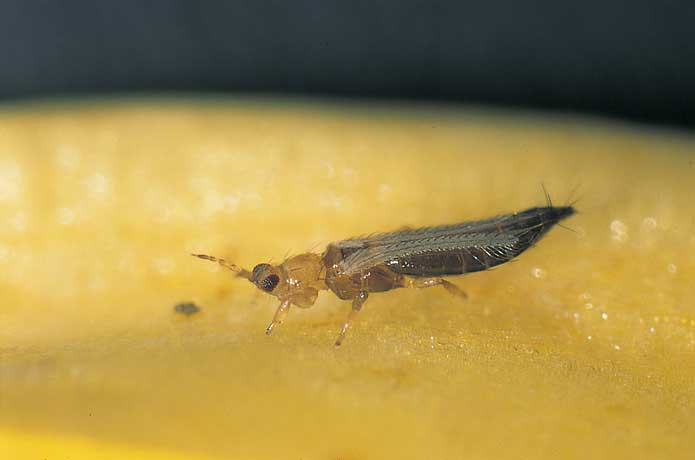Thrips: (201, 159, 586, 364)
